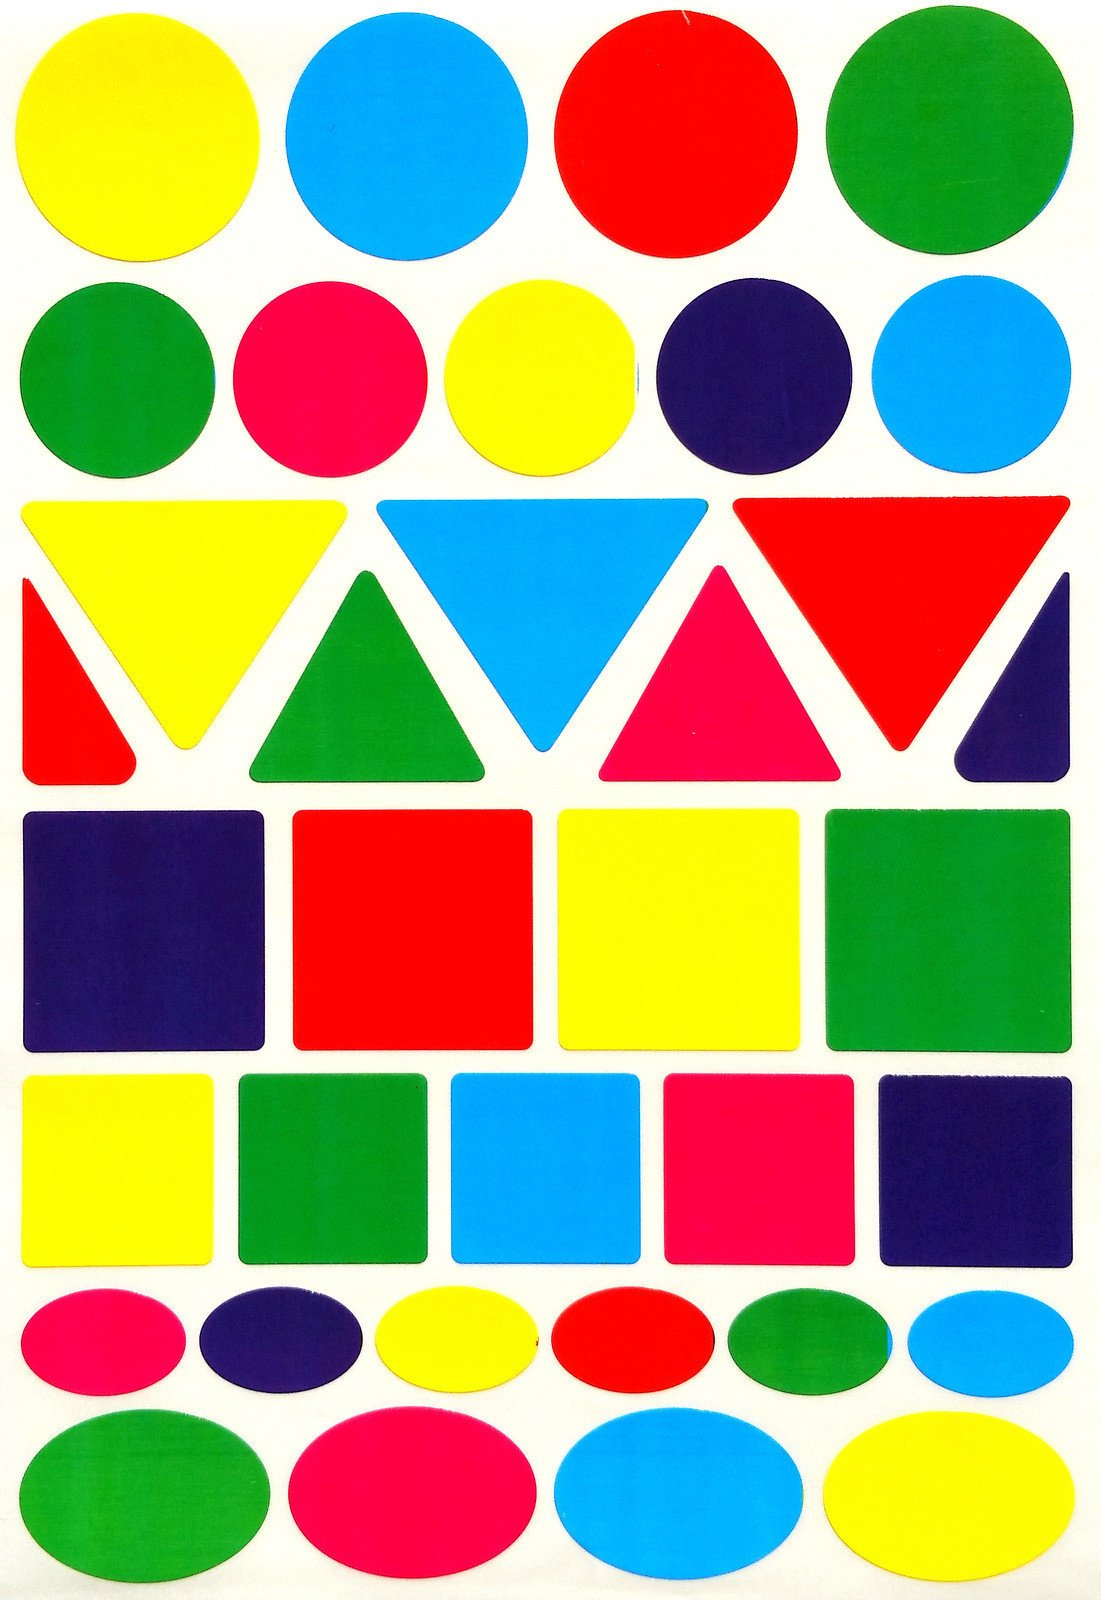circ: (541, 10, 818, 267), (269, 10, 541, 267), (818, 9, 1088, 265), (10, 10, 269, 267), (814, 1398, 1090, 1588), (543, 1401, 812, 1588), (862, 261, 1078, 488), (649, 263, 862, 488), (435, 265, 649, 486), (284, 1404, 540, 1582), (15, 1408, 275, 1582), (226, 269, 435, 484), (16, 271, 224, 486), (722, 1271, 900, 1402), (900, 1271, 1080, 1401), (544, 1277, 722, 1404), (15, 1280, 194, 1402), (369, 1278, 544, 1402), (194, 1280, 369, 1402)
